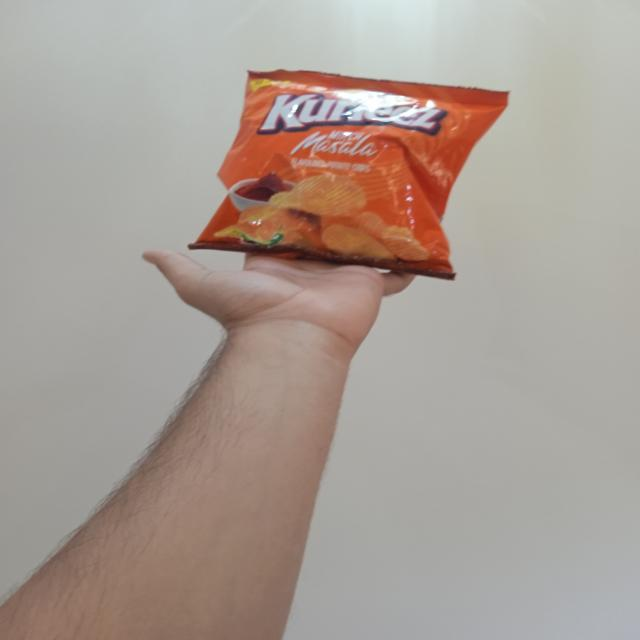Plastic: (185, 66, 513, 278)
